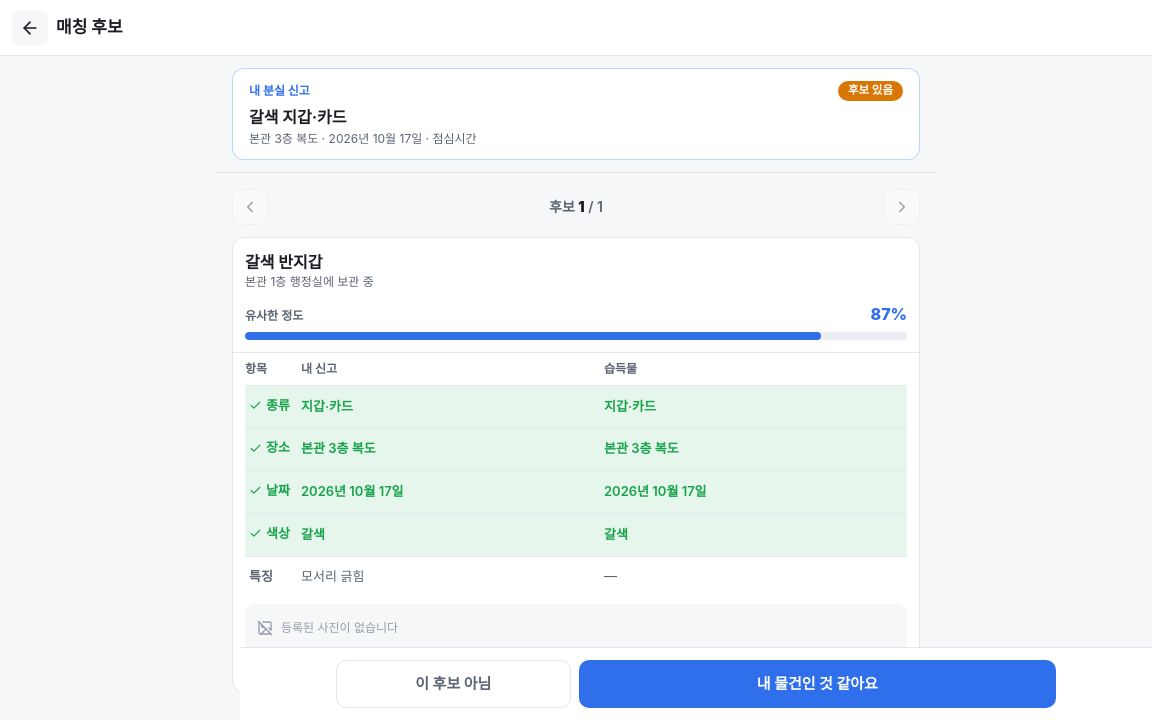
MatchesPage › 수령 신청 실패(409)는 문구로
Click the button "내 물건인 것 같아요": [817, 684] box [579,660,1056,708]
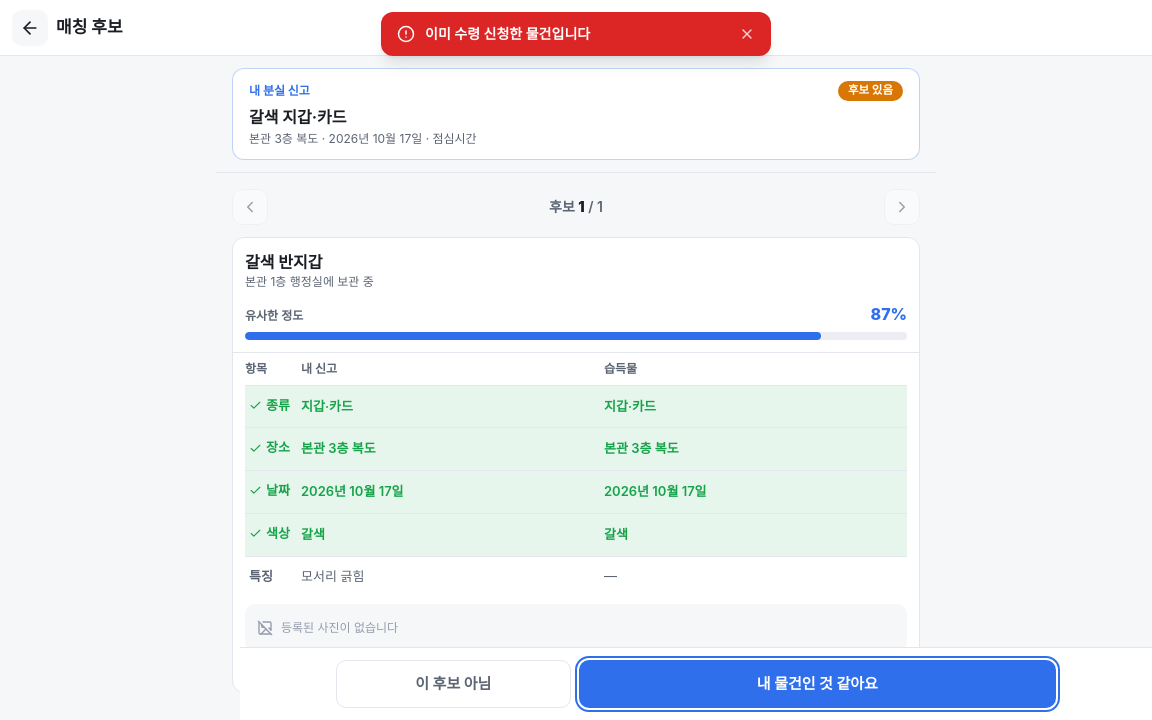
Result: the message reads "이미 수령 신청한 물건입니다" at [425,25,590,42]
